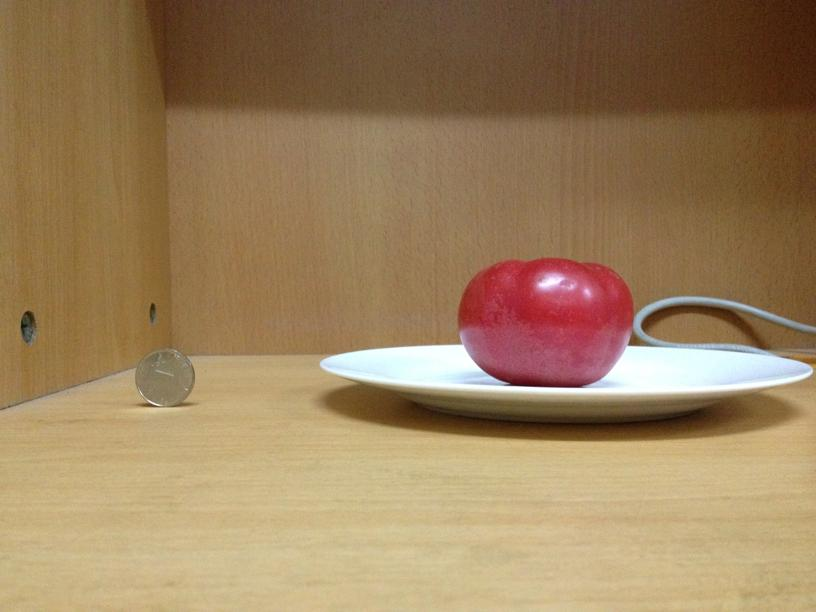coin: (131, 344, 197, 406)
tomato: (450, 259, 639, 387)
